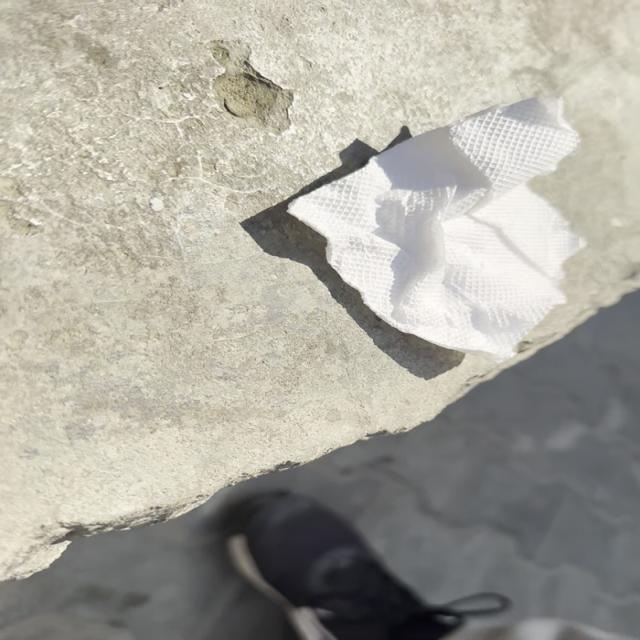tissue: (287, 87, 596, 363)
